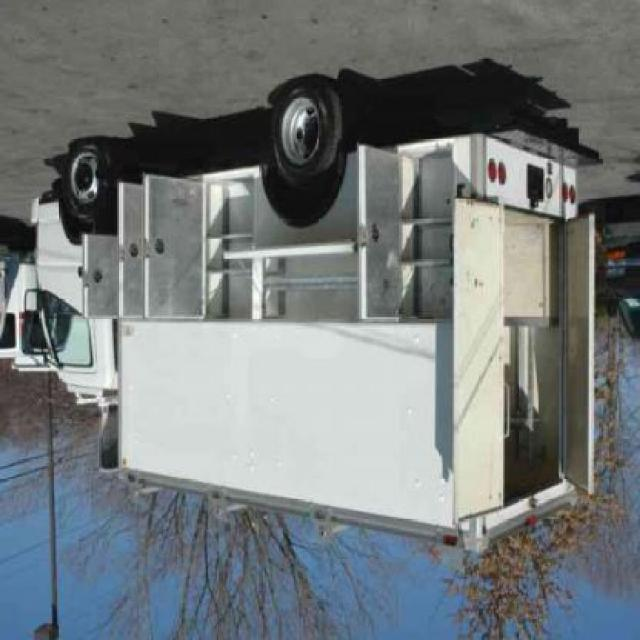truck: (23, 75, 602, 552)
